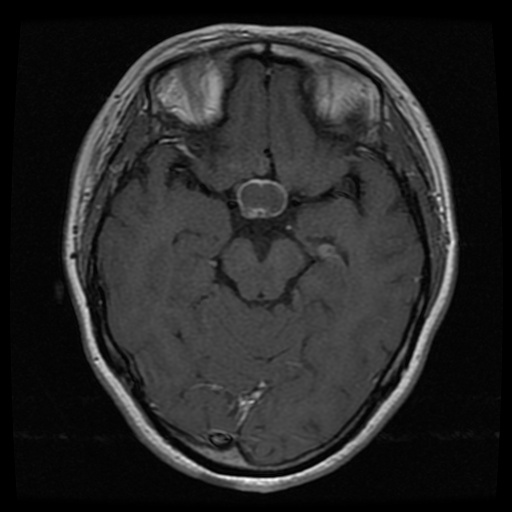pituitary: (237, 180, 285, 217)
